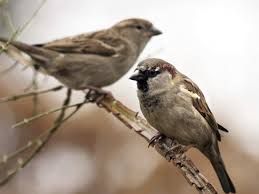hsparrow: (127, 53, 245, 194), (2, 17, 165, 103)
